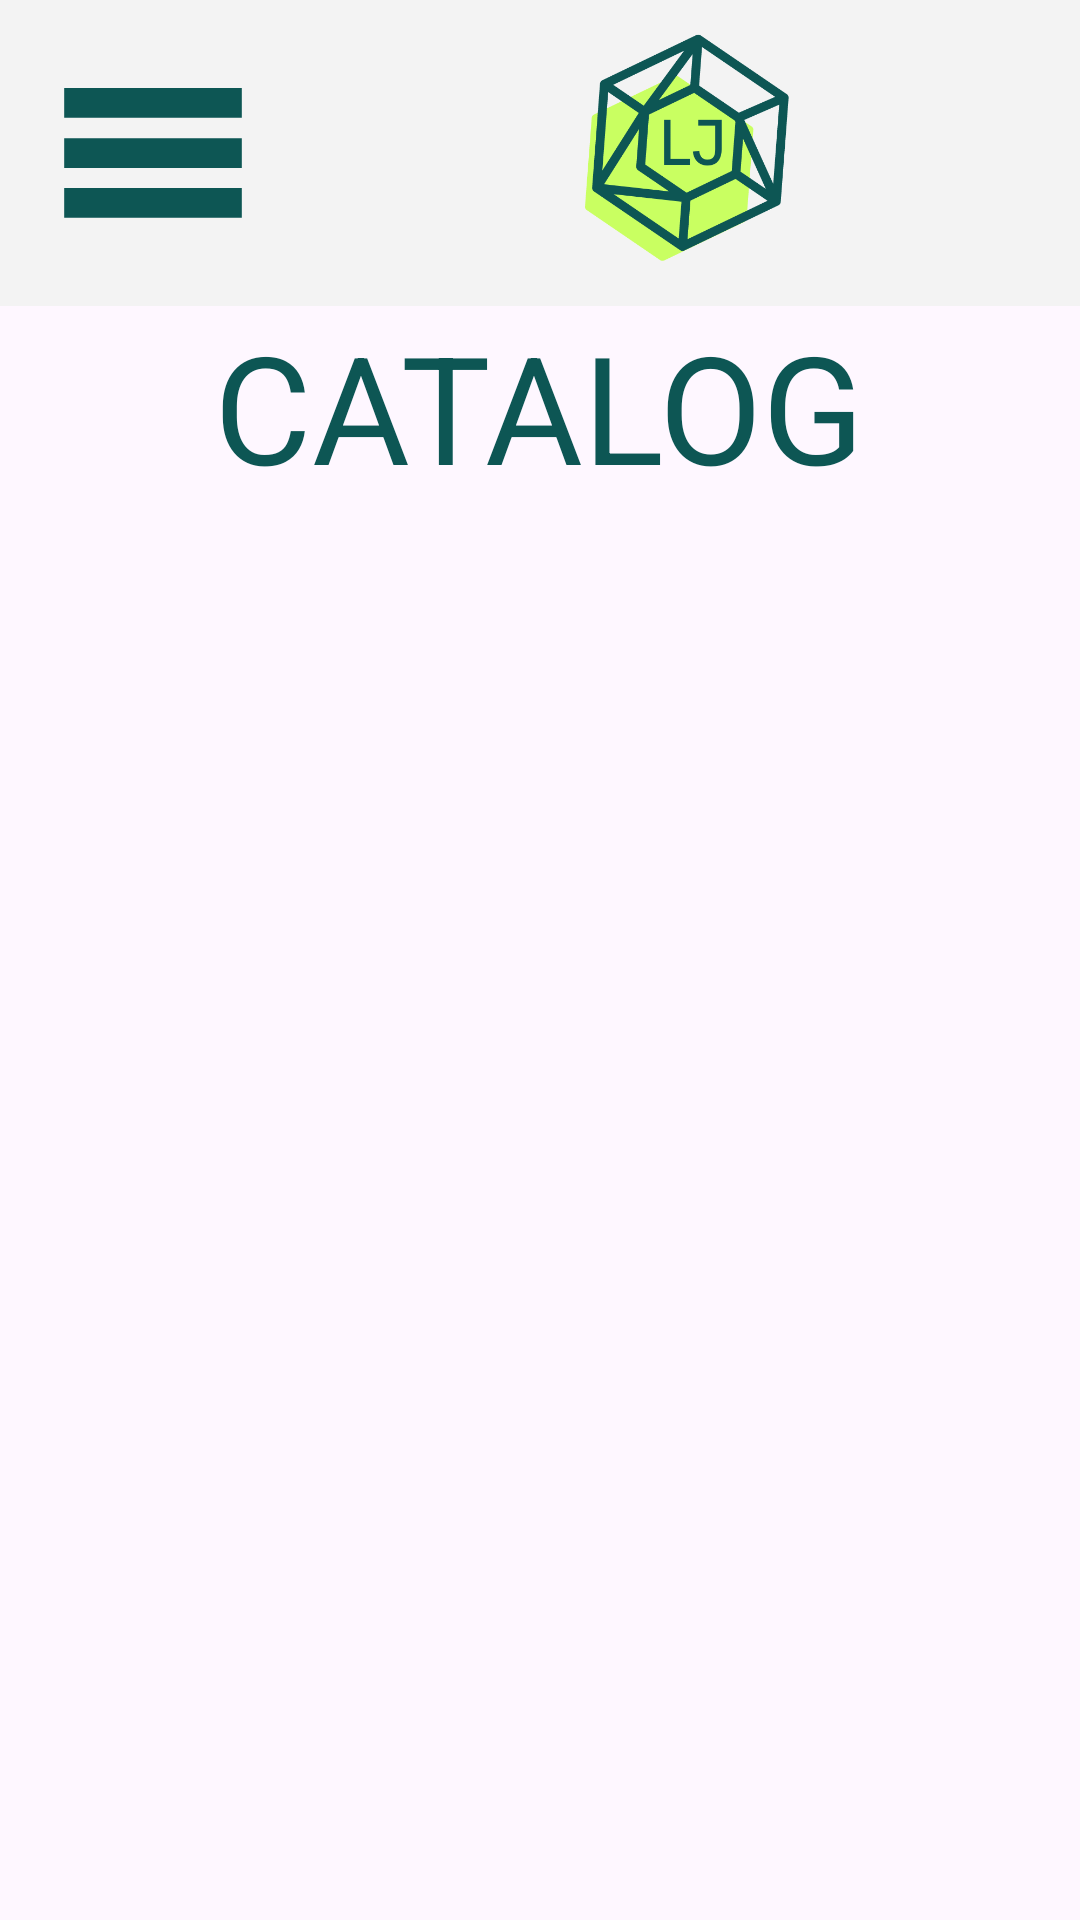

Icon click points for this 1080px x 1920px phone screenshot, format point (x, y):
hamburgicon: point (153, 153)
